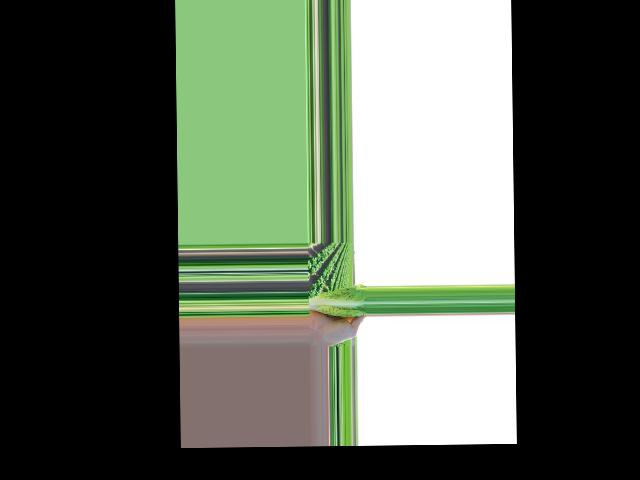lettuce: (307, 285, 365, 317)
